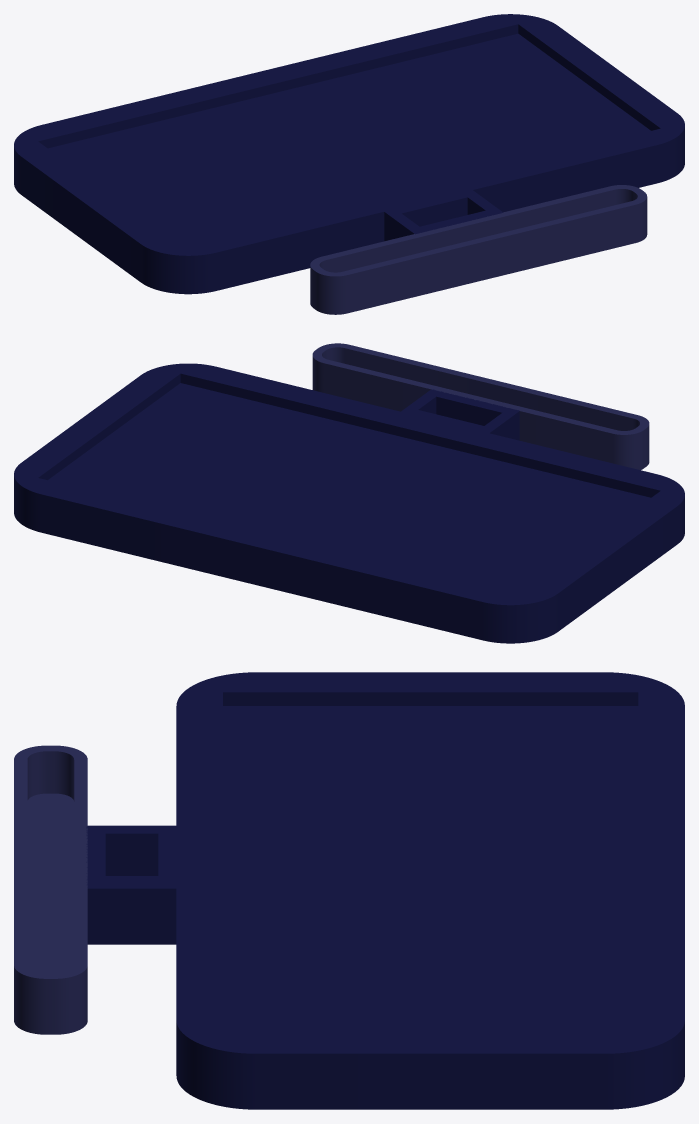
3 renders of one model, top to bottom at view 1: azimuth 30°, elevation 25°; view 2: azimuth 150°, elevation 25°; view 3: azimuth 270°, elevation 25°, orthographic. The views are drawn at different scales.
Parts seen in each view (by area): view 1: tray; view 2: tray; view 3: tray.
Part boxes in pixels (x1,y1,x2,y2): tray: [14, 14, 684, 314]; tray: [14, 343, 684, 643]; tray: [14, 672, 684, 1109].
Bounding box in the file's own units: 0.6 × 0.041 × 0.446.
